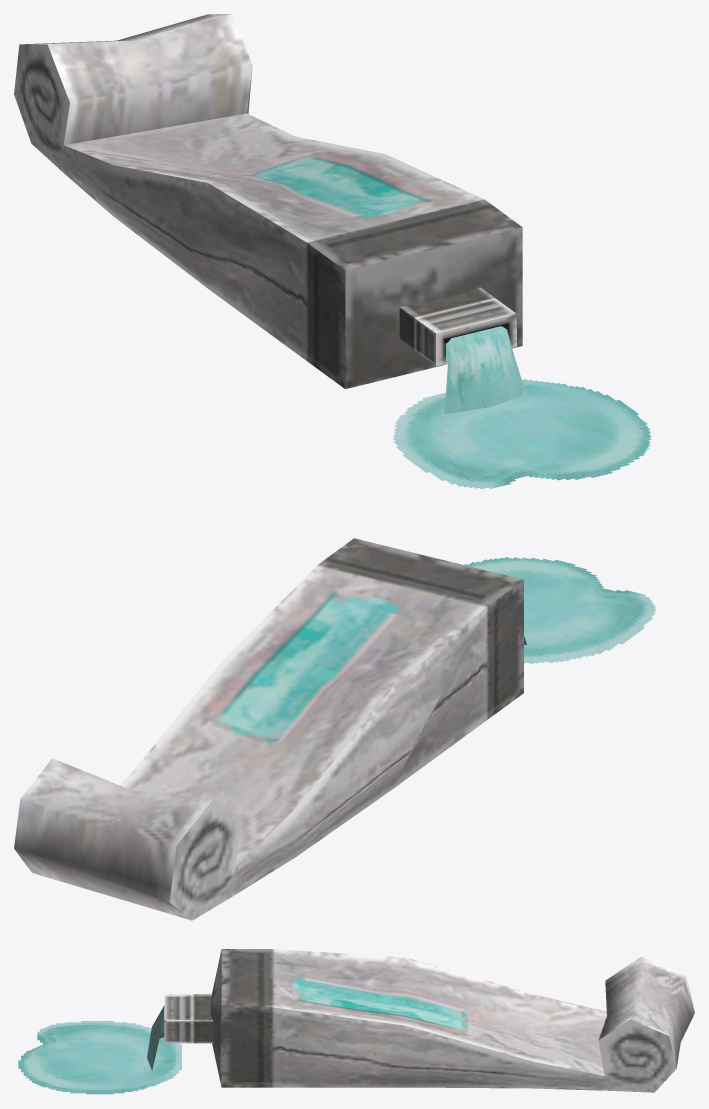
File: eqp_comp_adhesive.fbx
3 renders of one model, top to bottom at view 1: azimuth 30°, elevation 25°; view 2: azimuth 150°, elevation 25°; view 3: azimuth 270°, elevation 25°, orthographic. The views are drawn at different scales.
Visible parts, largest first — view 1: mesh_node; view 2: mesh_node; view 3: mesh_node.
Boxes of the visible parts, bbox=[...] form: mesh_node: bbox=[14, 14, 651, 489]; mesh_node: bbox=[14, 538, 656, 920]; mesh_node: bbox=[18, 949, 694, 1094].
Bounding box in the file's own units: 0.1083 × 0.0565 × 0.4281.
